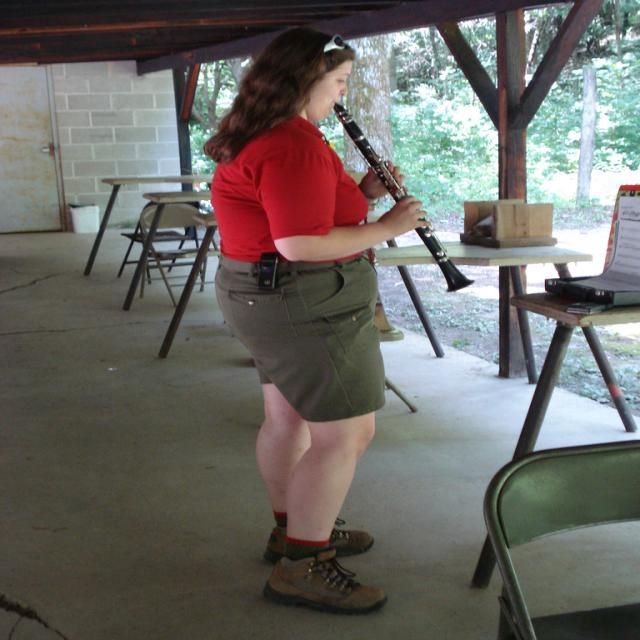clarinet: (323, 101, 489, 296)
